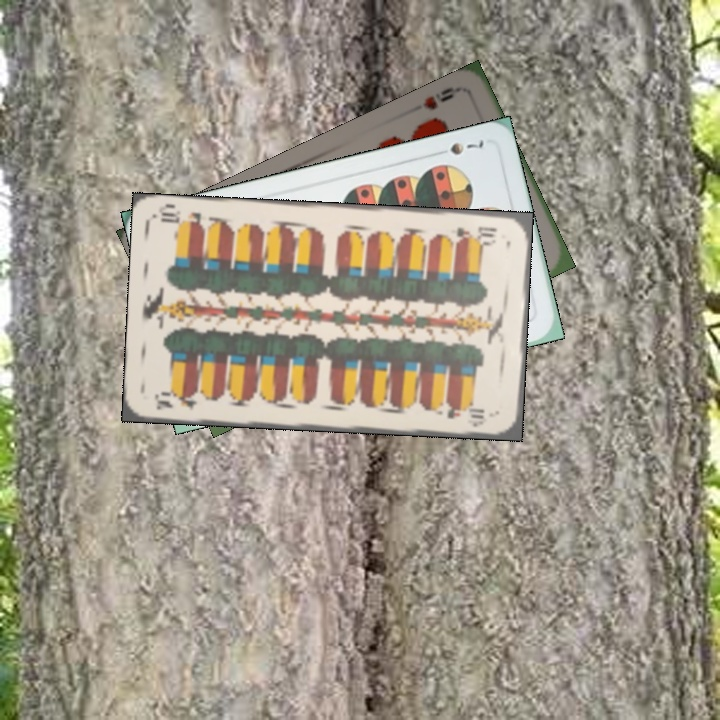E10: (151, 387, 207, 413), (452, 222, 500, 245)
H9: (419, 82, 463, 113)
S7: (445, 135, 487, 158)
